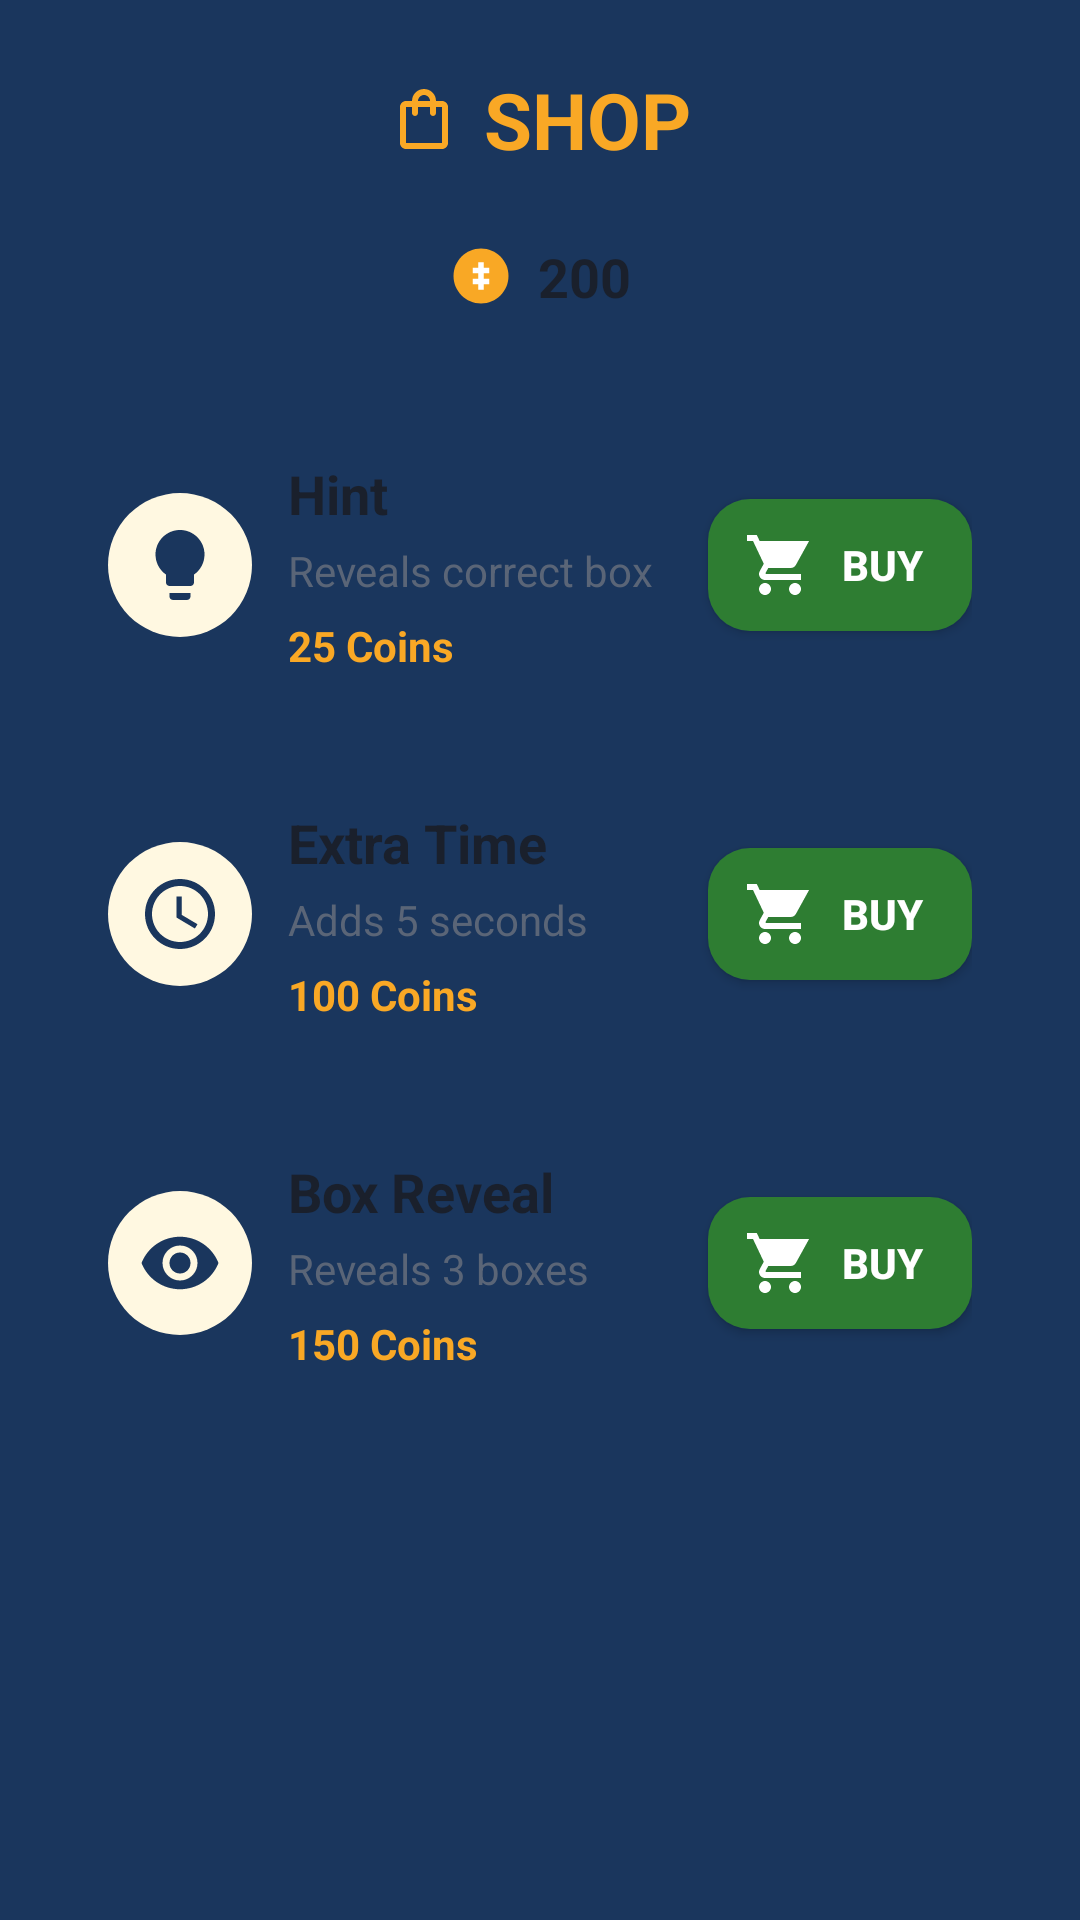

Icons on this 1080px×1920px Android screen, each with its box as detection(x1, y1, x2, y2):
Coins: detection(453, 248, 509, 304)
